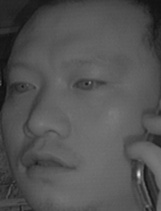eye: (71, 72, 106, 94), (8, 77, 38, 96)
mouth: (17, 143, 77, 183)
